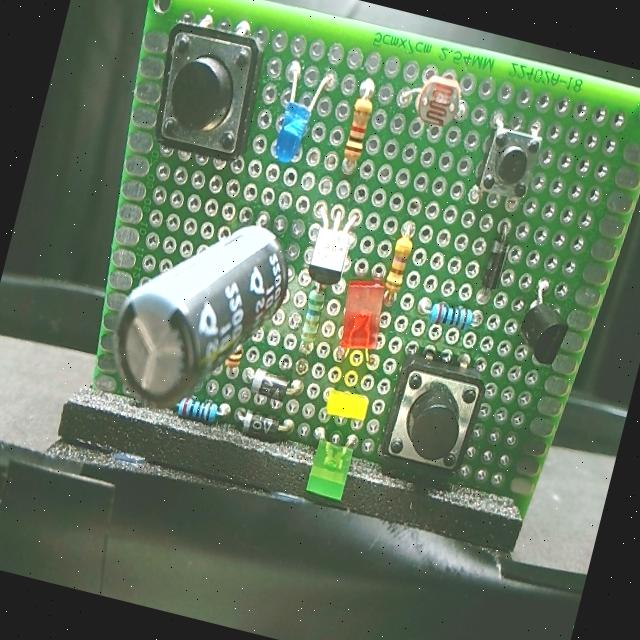Electrolytic capacitor: (91, 195, 305, 437)
cds: (398, 57, 476, 147)
diode: (240, 353, 307, 413), (475, 218, 523, 294), (232, 404, 292, 446)
led: (262, 63, 339, 172), (324, 272, 394, 377), (294, 430, 356, 510), (312, 370, 373, 438)
resistor: (414, 287, 486, 339), (339, 79, 384, 162), (287, 275, 333, 356), (374, 224, 418, 302), (170, 392, 228, 439), (222, 336, 256, 386)
switch: (136, 6, 276, 177), (372, 340, 494, 484), (462, 115, 550, 212)
transistor: (295, 198, 366, 281), (509, 287, 580, 369)
